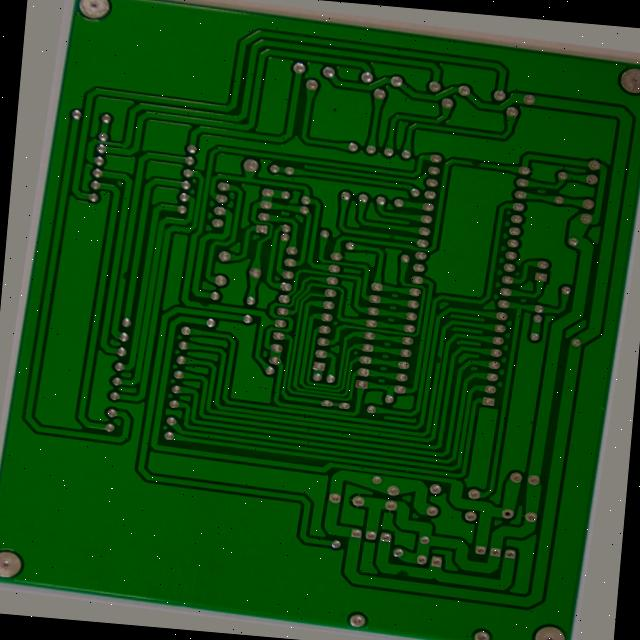mouse_bite: (413, 573, 436, 584), (103, 271, 115, 288), (466, 143, 484, 154), (187, 302, 205, 312), (441, 346, 452, 362)
